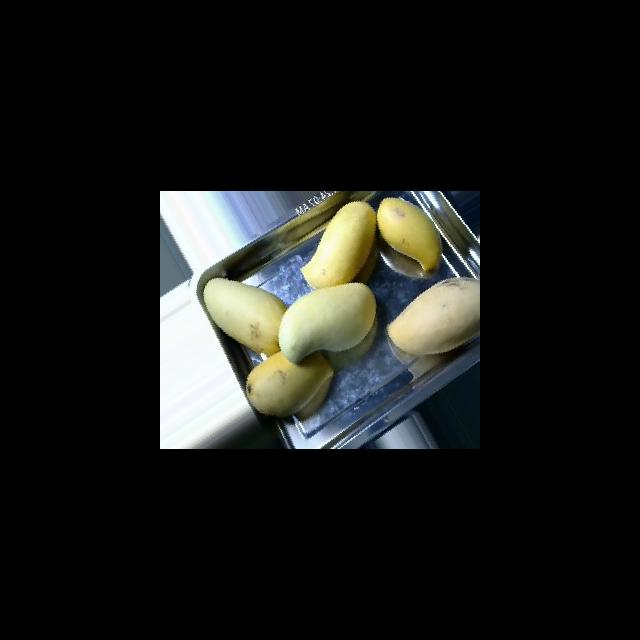mango: (278, 281, 376, 364), (386, 276, 479, 355), (300, 200, 376, 288), (202, 276, 286, 355), (245, 350, 334, 419), (376, 196, 442, 271)
